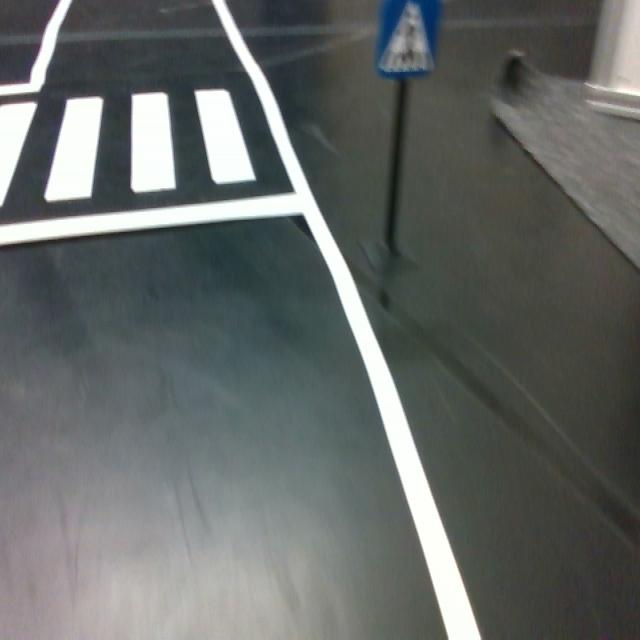crosswalk-sign: (371, 0, 442, 80)
